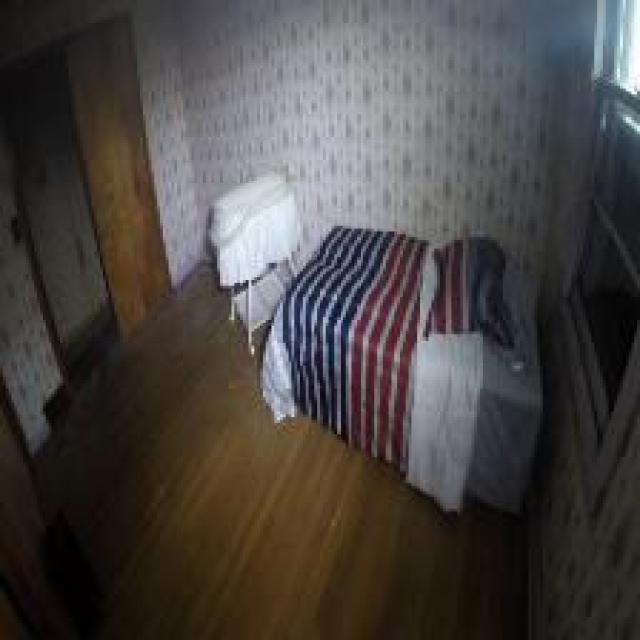other: (384, 231, 407, 427)
